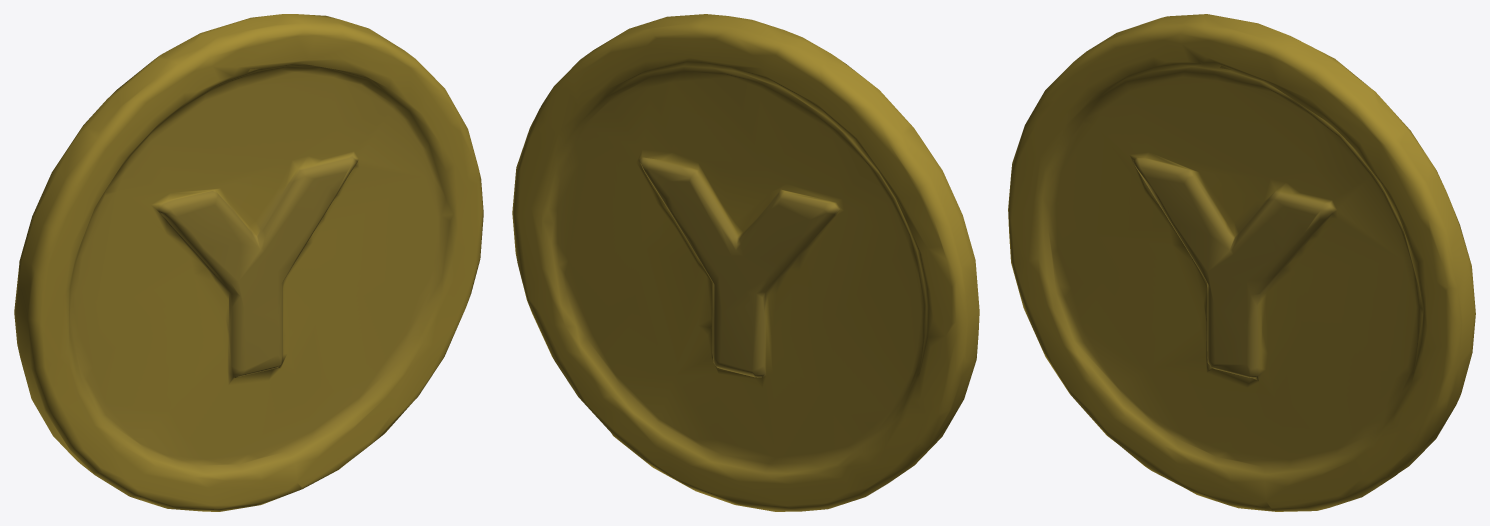
The model's file is gen3d-subway-token-lod0.glb.
3 views of the same model, side by side, from view 1: azimuth 30°, elevation 25°; view 2: azimuth 150°, elevation 25°; view 3: azimuth 330°, elevation 25° (orthographic).
Visible parts, largest first — view 1: part_0; view 2: part_0; view 3: part_0.
Boxes of the visible parts, x1,y1,x2,y2 form: part_0: (14,14,483,511); part_0: (512,14,979,511); part_0: (1008,14,1475,511).
Size of the model in its own units: 0.9994 by 1 by 0.087.
